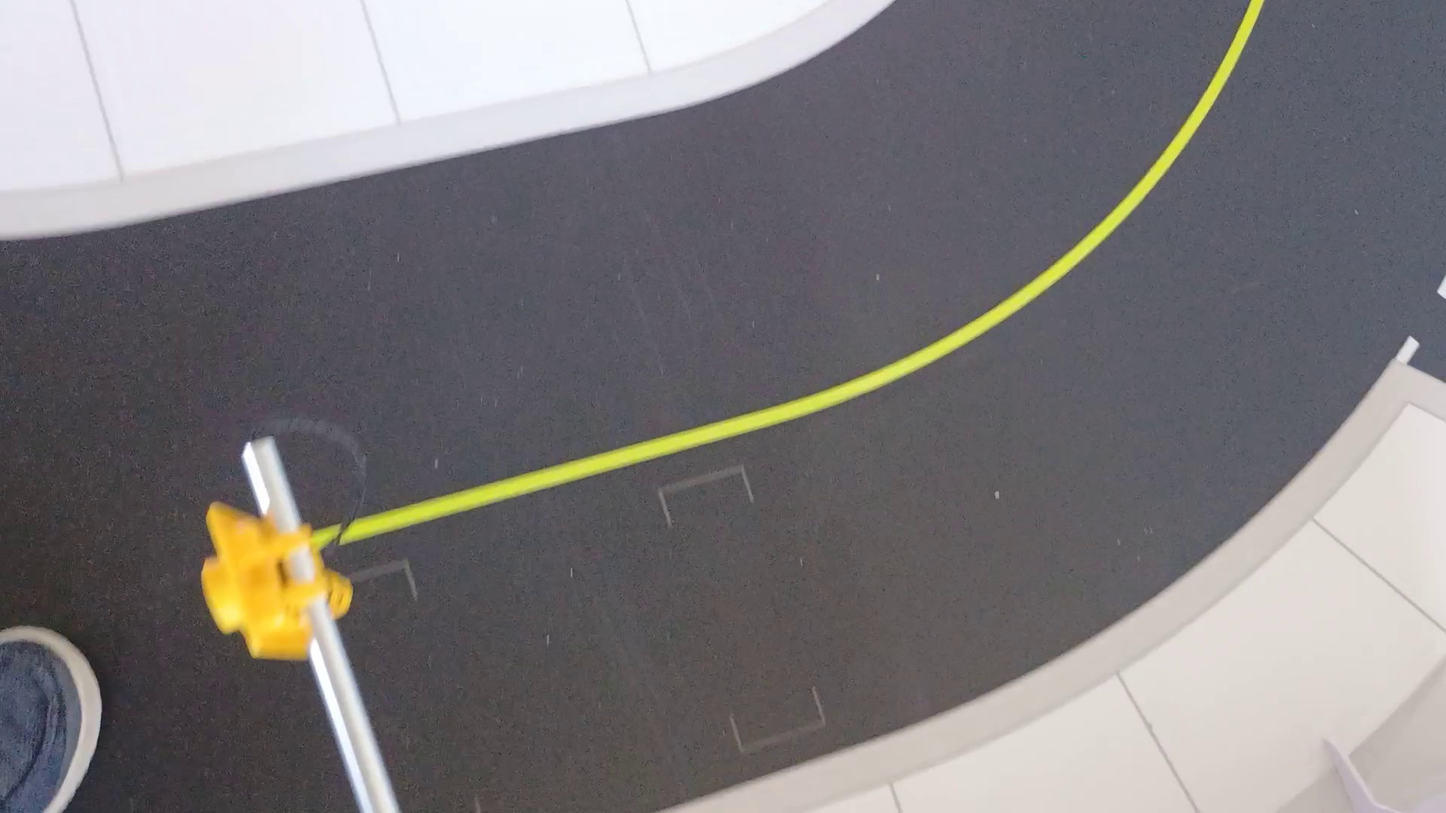Dashed: (1396, 336, 1419, 364), (1438, 277, 1445, 299)
Solid: (312, 0, 1264, 545)
Street: (0, 0, 1445, 812), (278, 437, 352, 529)
